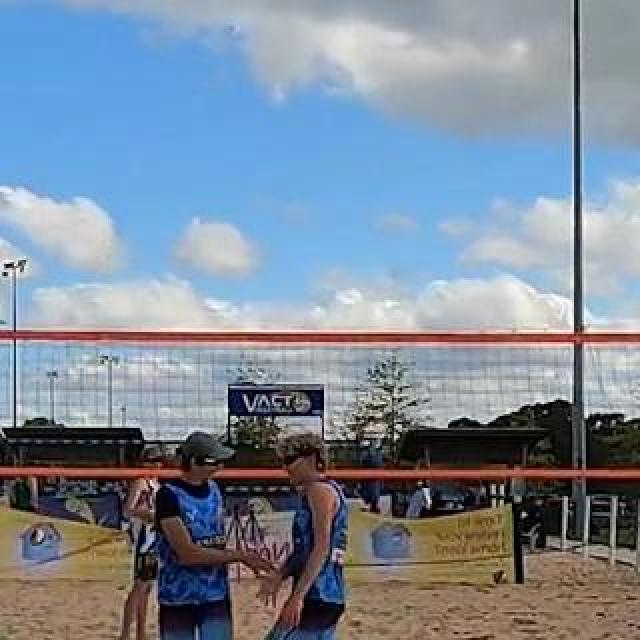volleyball: (492, 567, 510, 585)
